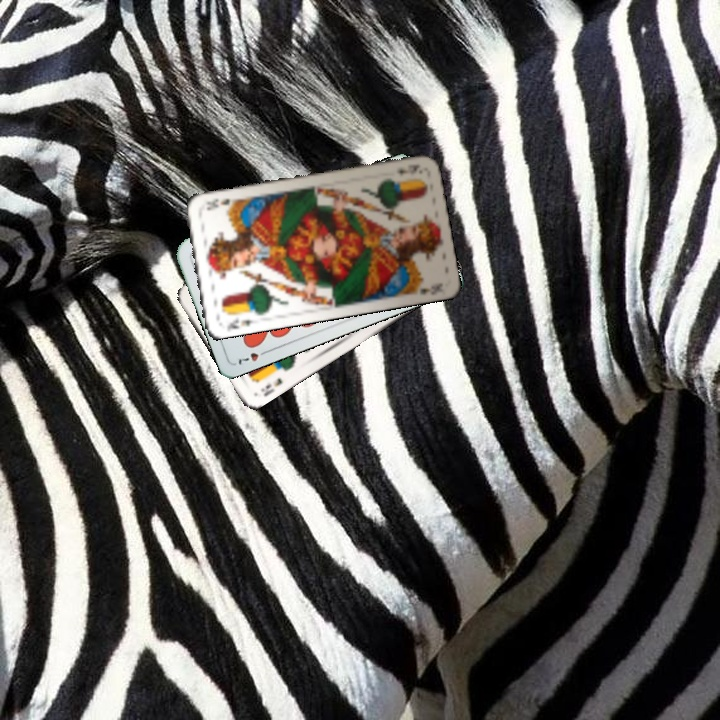EK: (257, 374, 285, 399), (223, 313, 259, 331), (393, 160, 423, 177)
H7: (234, 346, 272, 367)
